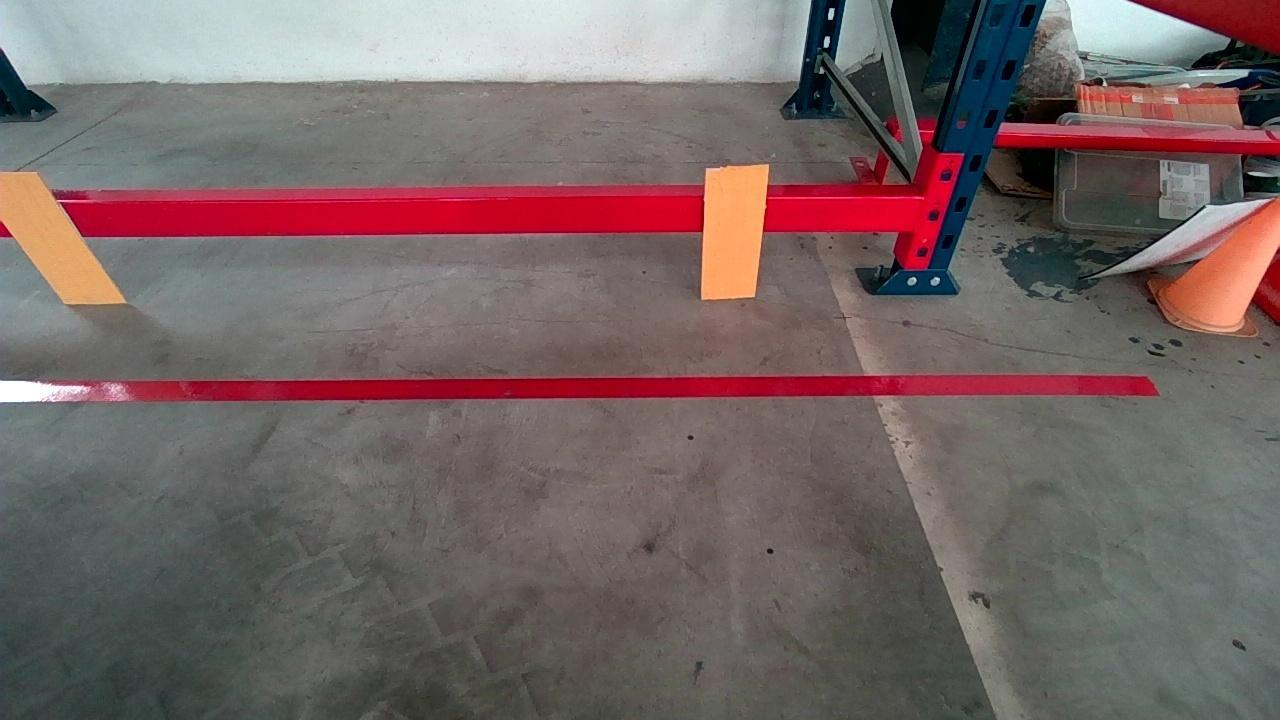h_rack: (20, 191, 924, 239)
orange_strip: (0, 175, 121, 304), (701, 166, 766, 298)
red_line: (0, 371, 1161, 402)
